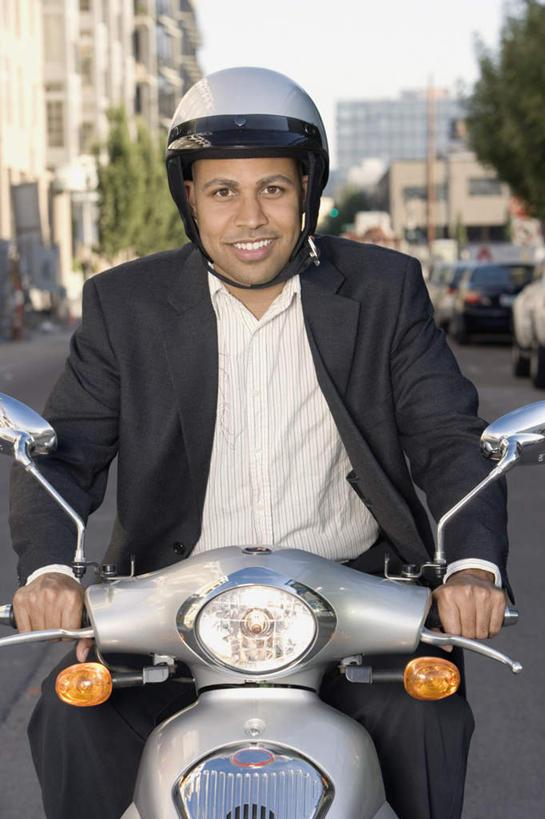helmet: (170, 63, 337, 173)
